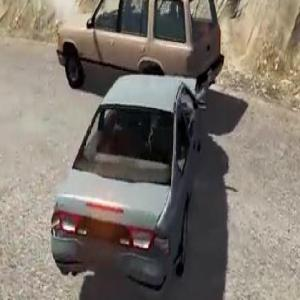negligible: (51, 0, 225, 300)
